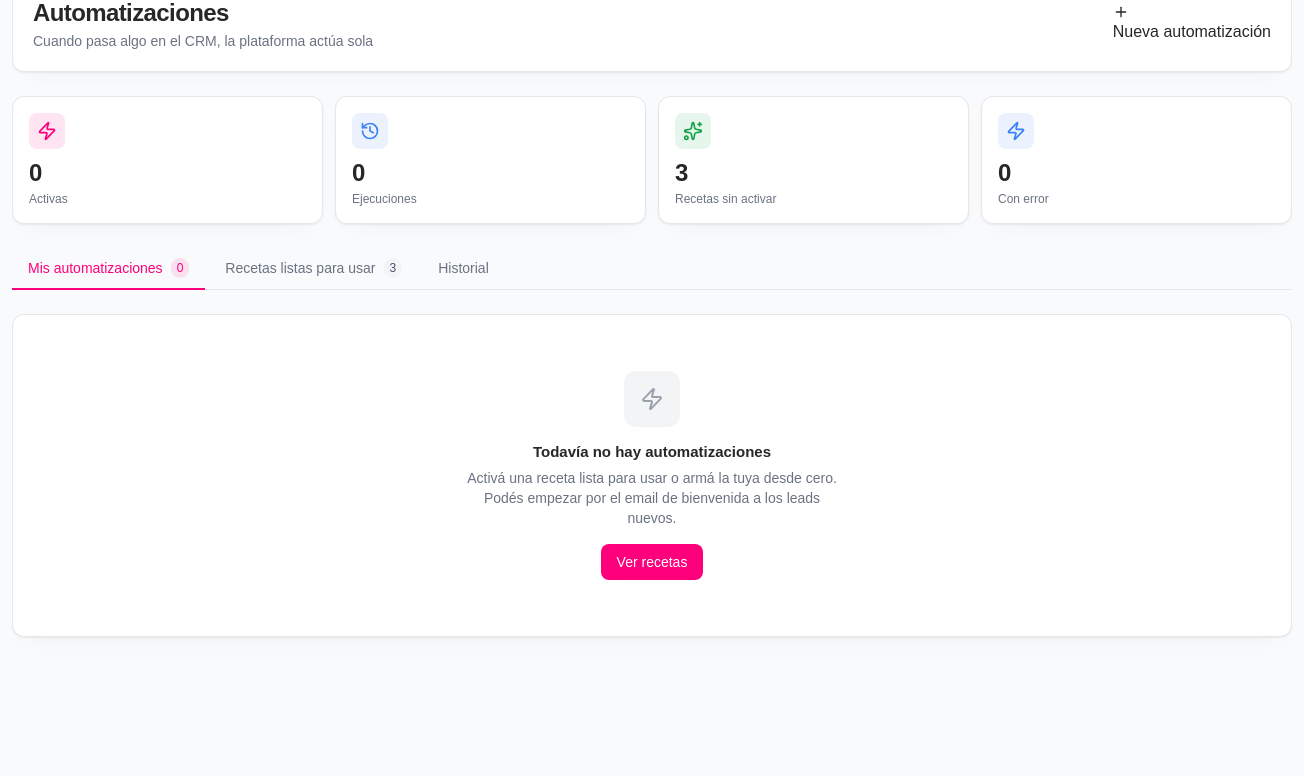
Test case: Galería de recetas › agrupa por categoría en el orden que declara el backend
Step 1. Click the tab "Recetas listas para usar 3" → (314, 269), box [209,248,418,290]
(page scrolled)
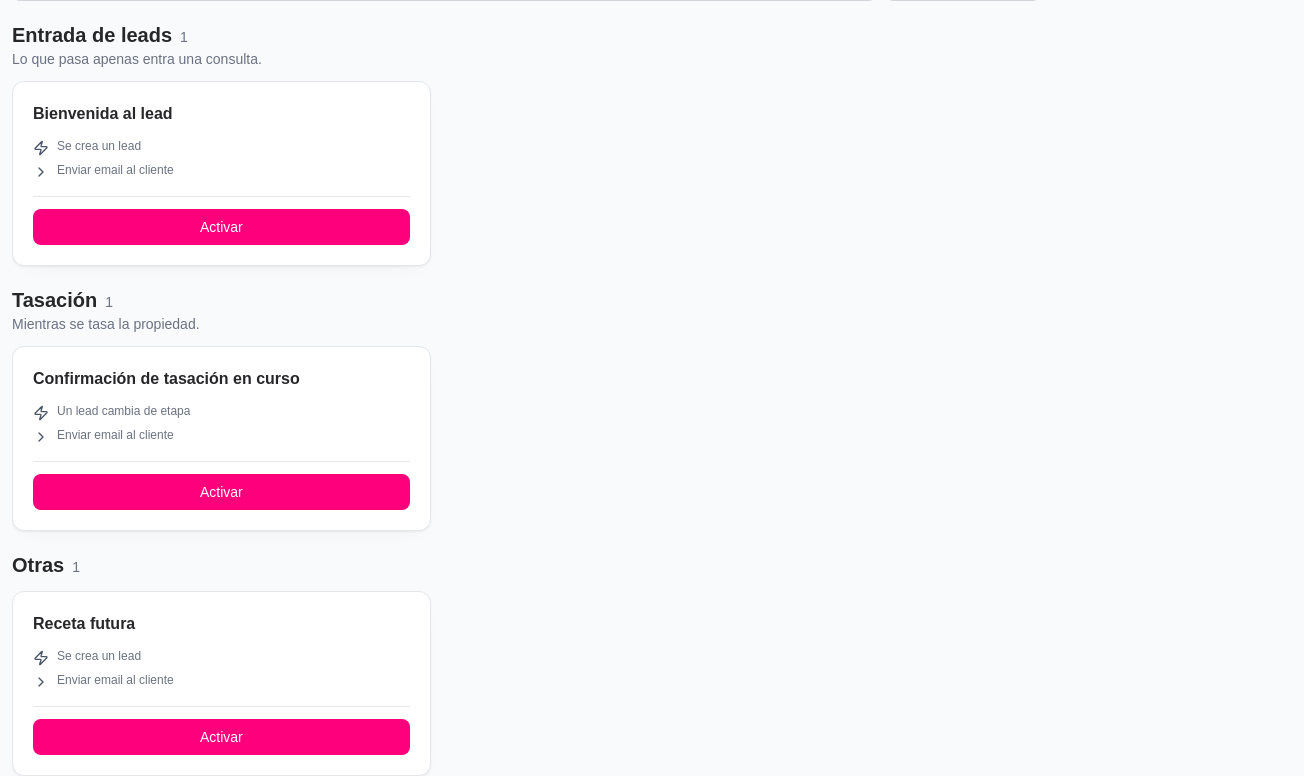
Now the headings read "Entrada de leads", "Tasación", "Otras", in this order, box [12,21,172,49]; [12,286,97,314]; [12,551,64,579]
Now the heading "Receta futura" is shown, box [33,612,135,636]
